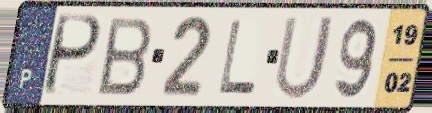2: (158, 13, 216, 101)
9: (332, 15, 379, 101)
B: (96, 15, 155, 98)
L: (215, 17, 258, 97)
P: (39, 12, 104, 100)
U: (271, 13, 338, 103)
